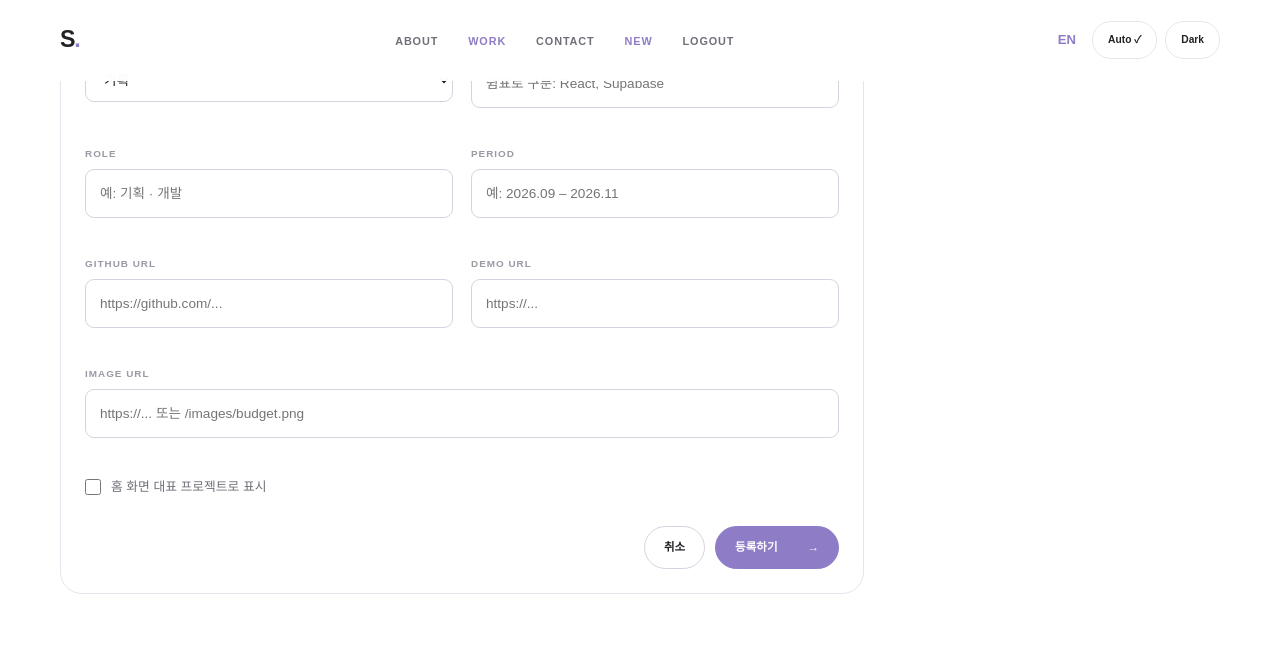
Scenario: 등록 화면 (/projects/new) › 필수값이 비면 제출하지 않고 필드 옆에 오류를 보여준다
(page scrolled)
Click the button "등록하기 →". click: (777, 548)
box: [715, 526, 839, 570]
(page scrolled)
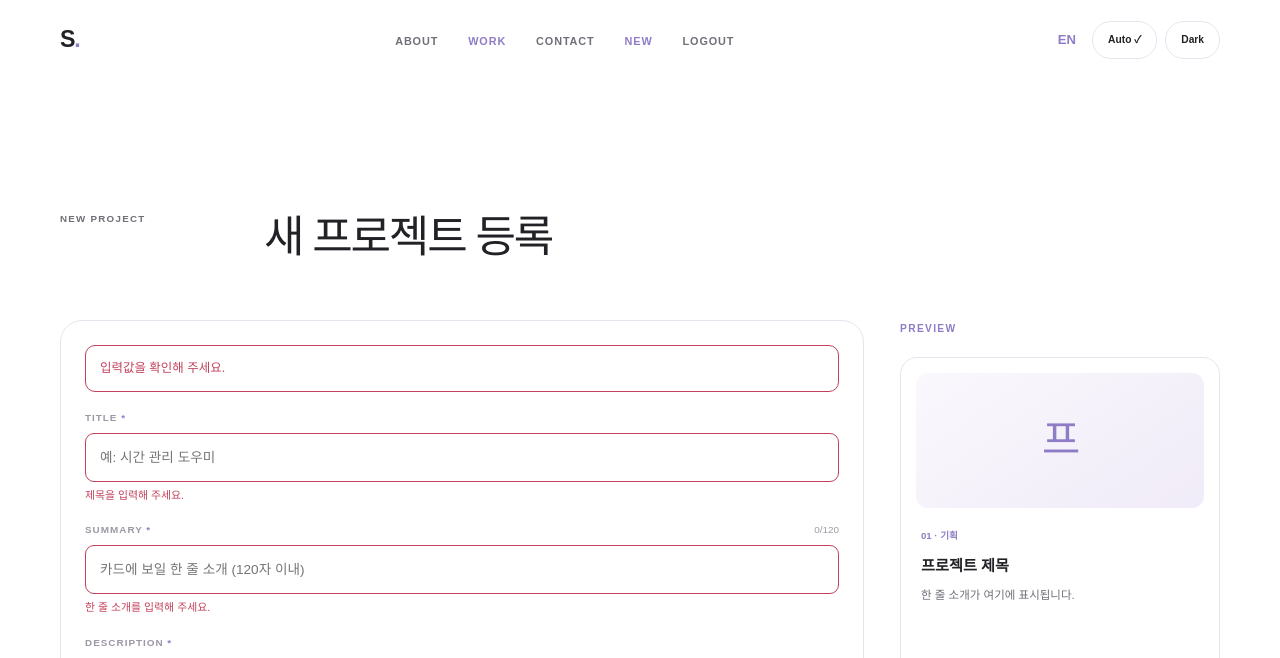
Now the text "입력값을 확인해 주세요." is shown, box [85, 345, 839, 392]
